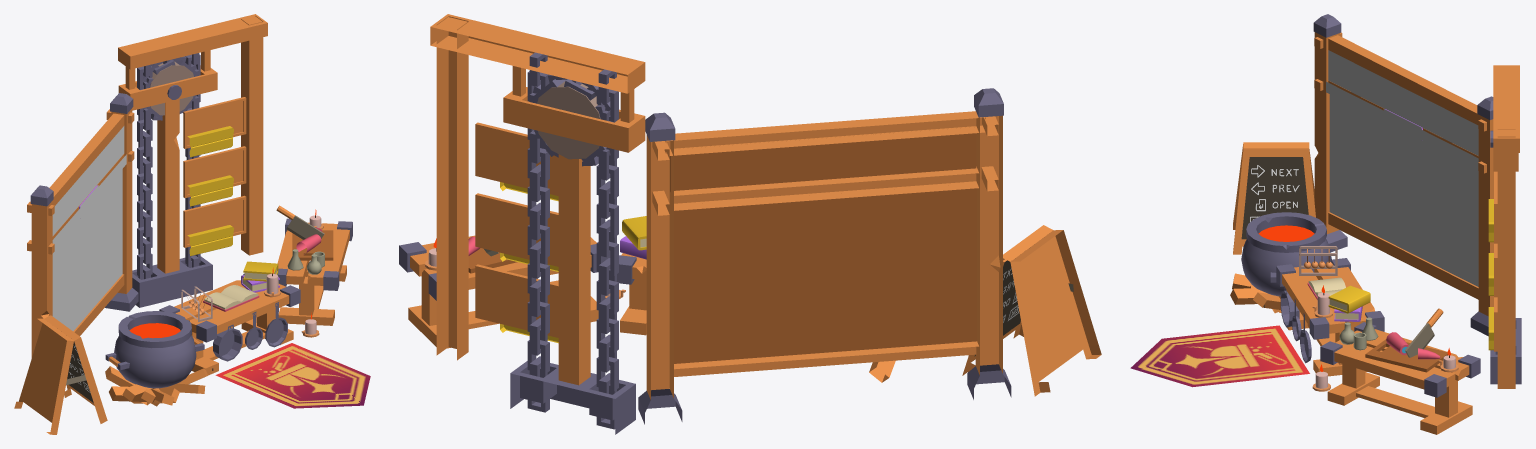
The model's file is sceneryStatic.glb.
The picture shows the model from 3 angles, left to right: view 1: azimuth 30°, elevation 25°; view 2: azimuth 150°, elevation 25°; view 3: azimuth 270°, elevation 25°; orthographic projection. The views are drawn at different scales.
Parts seen in each view (by area): view 1: Cube.155, Cube.071, refLabImages.001, refLabCarpet.001, Cube.098, table.004, table.005, refLabHeat, refLabChainLeft, Cube.162, text.009, refLabWood (+26 smaller); view 2: Cube.086, Cube.071, Cube.155, Cube.178, Cube.098, refLabChainLeft, refLabChainRight, Cube.161, Cube.162, Cube.167, Cube.169, Cube.166 (+9 smaller); view 3: refLabImages.001, Cube.071, refLabCarpet.001, Cube.155, table.005, text.009, Cube.100, table.004, refLabHeat, Sphere.002, Cube.097, text.007 (+14 smaller).
Boxes of the visible parts, left/top/right/bottom form: Cube.155: left=118, top=14, right=267, bottom=273; Cube.071: left=27, top=108, right=134, bottom=357; refLabImages.001: left=52, top=169, right=122, bottom=331; refLabCarpet.001: left=215, top=343, right=370, bottom=408; Cube.098: left=14, top=318, right=73, bottom=434; table.004: left=174, top=280, right=293, bottom=375; table.005: left=277, top=222, right=349, bottom=325; refLabHeat: left=114, top=335, right=196, bottom=388; refLabChainLeft: left=137, top=64, right=152, bottom=279; Cube.162: left=132, top=256, right=212, bottom=307; text.009: left=52, top=126, right=124, bottom=235; refLabWood: left=105, top=366, right=207, bottom=406; Cube.086: left=674, top=188, right=976, bottom=363; Cube.071: left=646, top=111, right=1002, bottom=399; Cube.155: left=430, top=14, right=645, bottom=385; Cube.178: left=670, top=127, right=976, bottom=192; Cube.098: left=1010, top=230, right=1101, bottom=396; refLabChainLeft: left=596, top=69, right=618, bottom=429; refLabChainRight: left=527, top=52, right=549, bottom=412; Cube.161: left=503, top=87, right=645, bottom=152; Cube.162: left=510, top=361, right=635, bottom=434; Cube.167: left=475, top=193, right=558, bottom=266; Cube.169: left=475, top=264, right=558, bottom=337; Cube.166: left=475, top=122, right=558, bottom=195; refLabImages.001: left=1329, top=94, right=1478, bottom=286; Cube.071: left=1314, top=32, right=1493, bottom=316; refLabCarpet.001: left=1130, top=325, right=1309, bottom=387; Cube.155: left=1493, top=65, right=1519, bottom=388; table.005: left=1327, top=329, right=1472, bottom=434; text.009: left=1328, top=50, right=1478, bottom=155; Cube.100: left=1241, top=157, right=1308, bottom=239; table.004: left=1282, top=264, right=1374, bottom=376; refLabHeat: left=1241, top=239, right=1331, bottom=296; Sphere.002: left=1246, top=212, right=1326, bottom=252; Cube.097: left=1233, top=148, right=1315, bottom=254; text.007: left=1326, top=81, right=1478, bottom=168.
Bounding box in the file's own units: 8.44 × 5.42 × 6.6.
18 materials, 2 textured.
